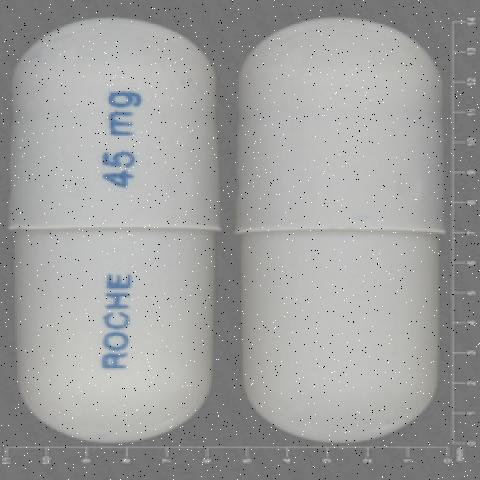Pill: (232, 8, 456, 454), (8, 8, 226, 466)
